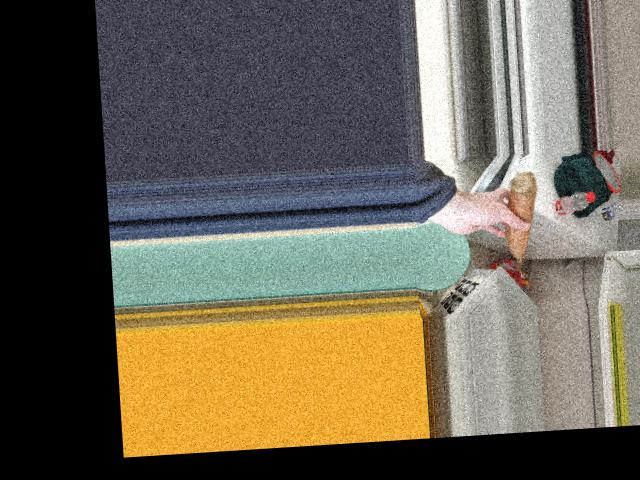sweet_potato: (504, 171, 534, 263)
